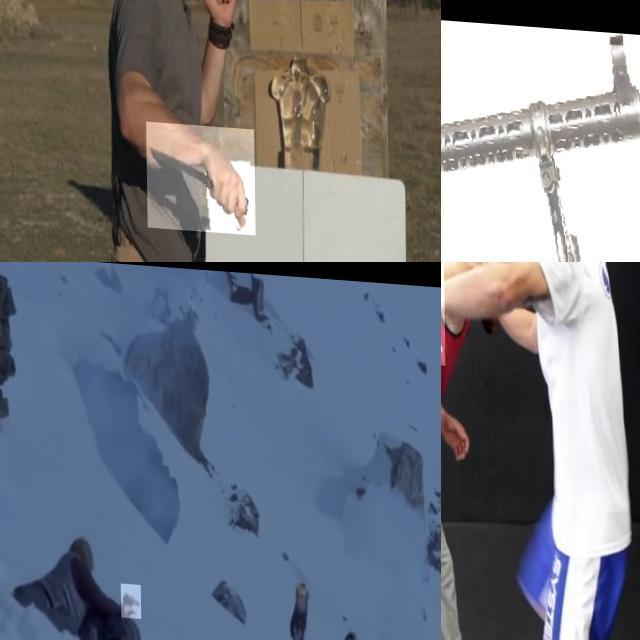-: (145, 118, 254, 230), (441, 262, 476, 362)
gun-knife-thesis - v11 Yolov5 augmented: (441, 4, 640, 262), (120, 580, 140, 615)
